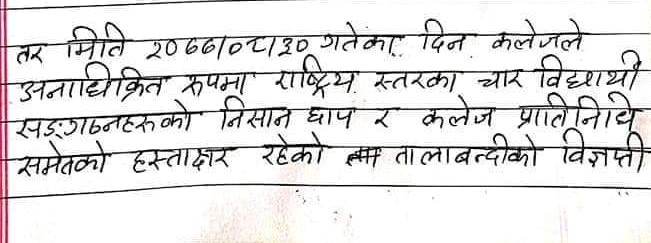text: (14, 99, 200, 141), (18, 61, 171, 105), (393, 131, 544, 174), (141, 33, 311, 63), (515, 91, 639, 131), (534, 50, 646, 91), (556, 127, 650, 174), (13, 140, 116, 178), (274, 56, 359, 98), (488, 18, 588, 53), (318, 18, 401, 56), (130, 145, 237, 173), (217, 93, 292, 132), (418, 94, 495, 131), (63, 22, 131, 59), (259, 131, 327, 168), (372, 67, 460, 93), (178, 66, 251, 94), (418, 16, 472, 53), (300, 104, 359, 129), (476, 65, 524, 91), (13, 37, 49, 67), (370, 103, 402, 132)
